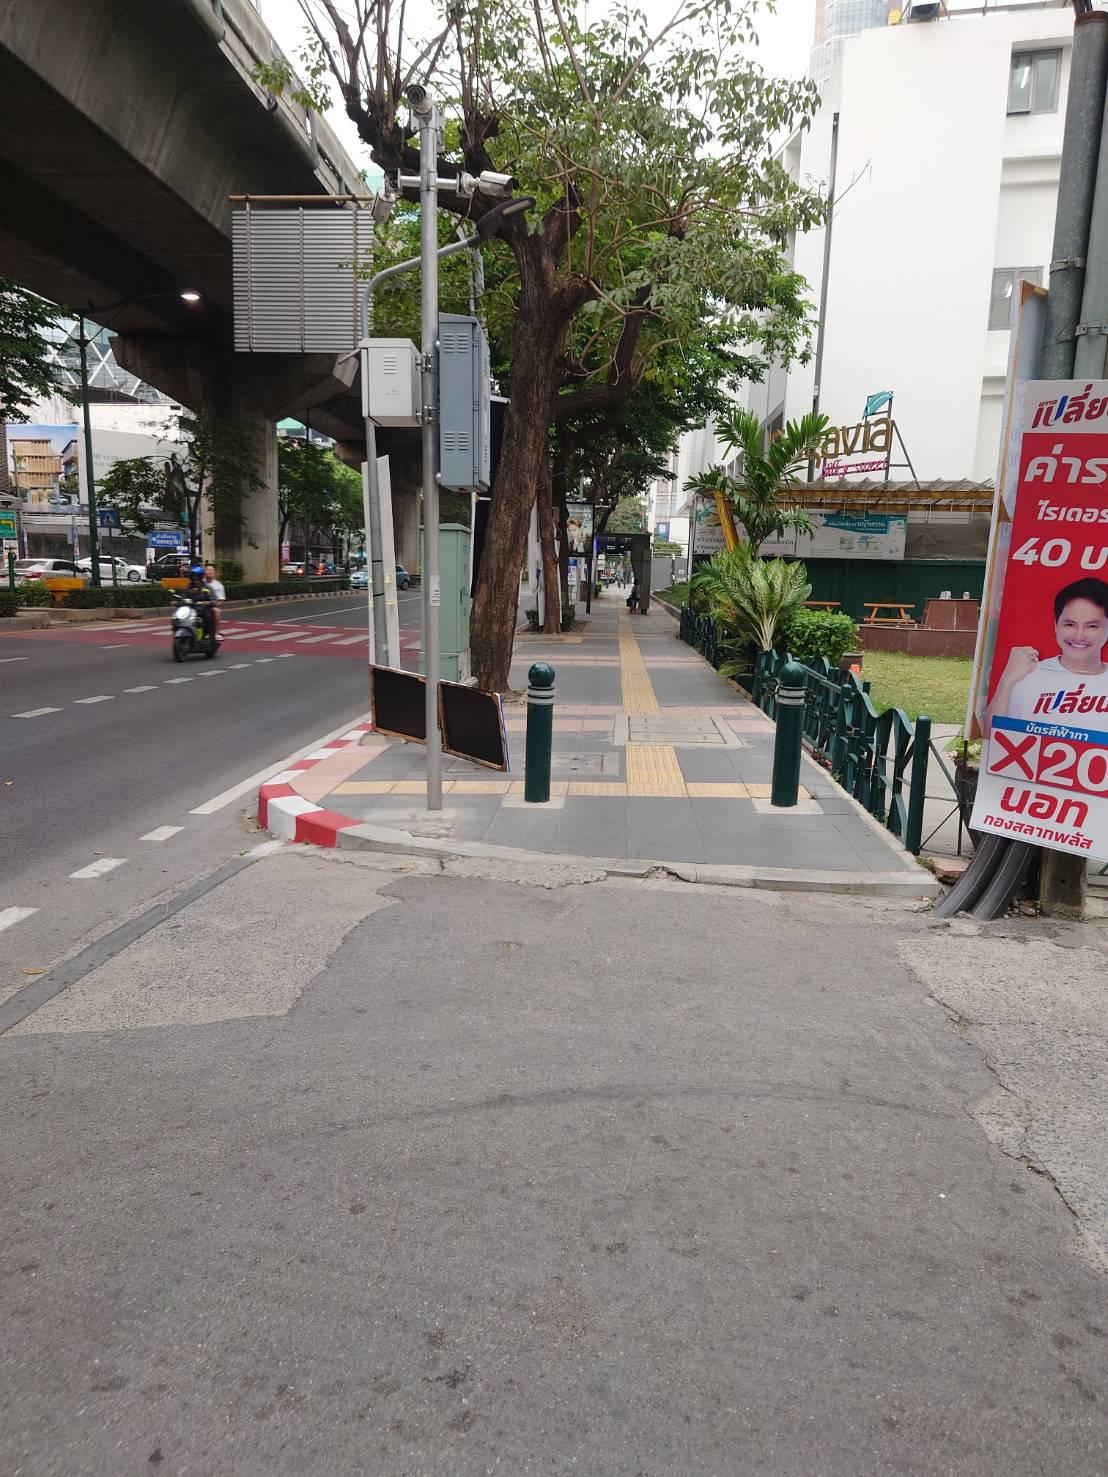Banner: (945, 374, 1108, 837)
